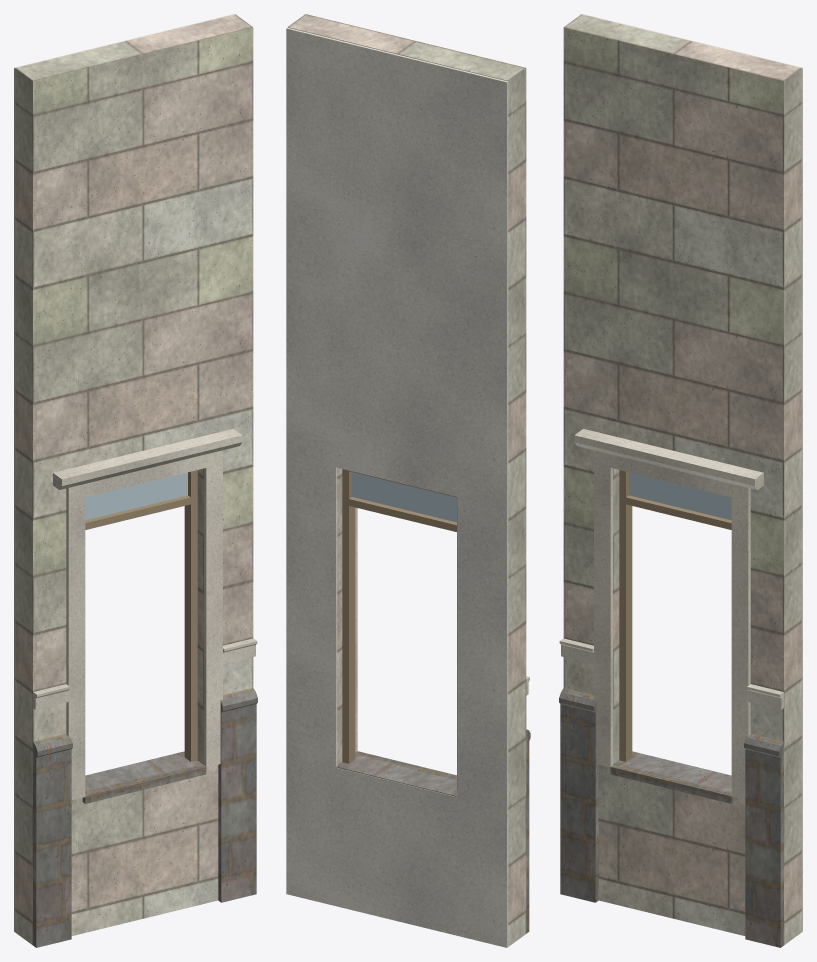
The model's file is s_bdoor.glb.
3 renders of one model, left to right at view 1: azimuth 30°, elevation 25°; view 2: azimuth 150°, elevation 25°; view 3: azimuth 330°, elevation 25°, orthographic.
Parts seen in each view (by area): view 1: s_bdoor_stone, s_bdoor_granite, s_bdoor_carve, s_bdoor_bronze, s_bdoor_glass, s_bdoor_plaster; view 2: s_bdoor_plaster, s_bdoor_stone, s_bdoor_bronze, s_bdoor_granite, s_bdoor_glass, s_bdoor_carve; view 3: s_bdoor_stone, s_bdoor_granite, s_bdoor_carve, s_bdoor_bronze, s_bdoor_glass, s_bdoor_plaster.
Boxes of the visible parts, x1=… form: s_bdoor_stone: x1=15, y1=14, x2=253, y2=945; s_bdoor_granite: x1=33, y1=688, x2=257, y2=947; s_bdoor_carve: x1=33, y1=429, x2=257, y2=800; s_bdoor_bronze: x1=85, y1=470, x2=197, y2=761; s_bdoor_glass: x1=85, y1=472, x2=187, y2=520; s_bdoor_plaster: x1=14, y1=14, x2=234, y2=931; s_bdoor_plaster: x1=286, y1=27, x2=508, y2=947; s_bdoor_stone: x1=287, y1=14, x2=526, y2=946; s_bdoor_bronze: x1=342, y1=469, x2=457, y2=789; s_bdoor_granite: x1=336, y1=729, x2=530, y2=933; s_bdoor_glass: x1=352, y1=472, x2=456, y2=522; s_bdoor_carve: x1=355, y1=507, x2=529, y2=752; s_bdoor_stone: x1=563, y1=14, x2=801, y2=945; s_bdoor_granite: x1=559, y1=688, x2=783, y2=947; s_bdoor_carve: x1=559, y1=429, x2=783, y2=800; s_bdoor_bronze: x1=619, y1=470, x2=731, y2=761; s_bdoor_glass: x1=629, y1=472, x2=731, y2=520; s_bdoor_plaster: x1=582, y1=14, x2=802, y2=931.
Size of the model in its own units: 2 by 7.5 by 0.44.
Materials: 6 (4 with a texture image).
